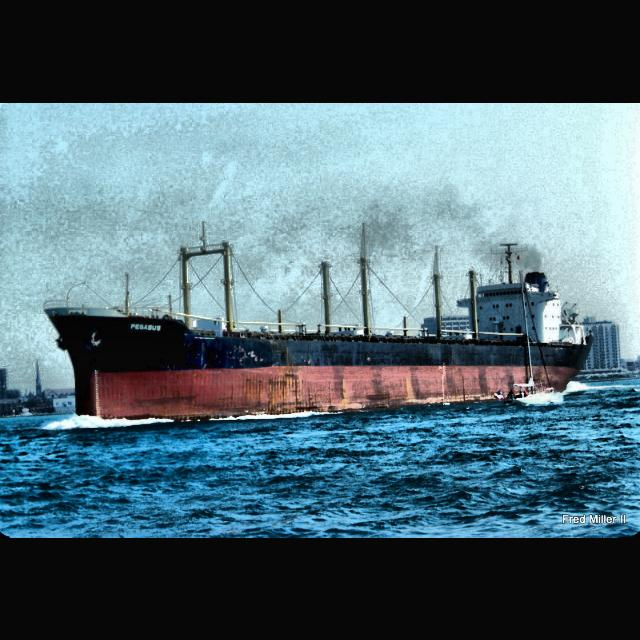bulk_carrier: (42, 228, 594, 422)
